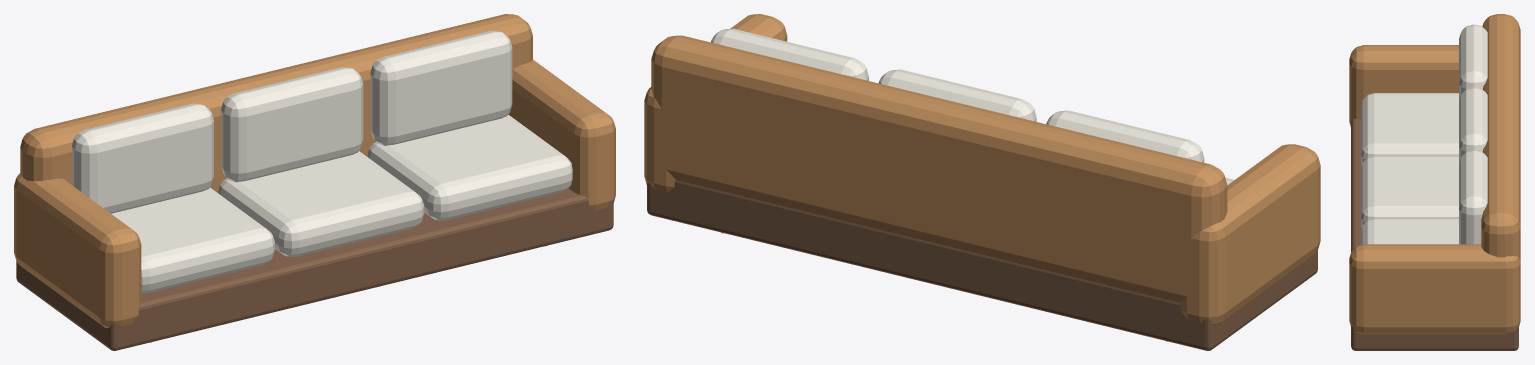
The model's file is home_sofa.glb.
The picture shows the model from 3 angles, left to right: view 1: azimuth 30°, elevation 25°; view 2: azimuth 150°, elevation 25°; view 3: azimuth 270°, elevation 25°; orthographic projection. The views are drawn at different scales.
Parts seen in each view (by area): view 1: sofa; view 2: sofa; view 3: sofa.
Part boxes in pixels (x1,y1,x2,y2): sofa: [14, 14, 615, 350]; sofa: [644, 14, 1320, 350]; sofa: [1349, 14, 1520, 350].
Size of the model in its own units: 2.86 by 0.91 by 0.96.
